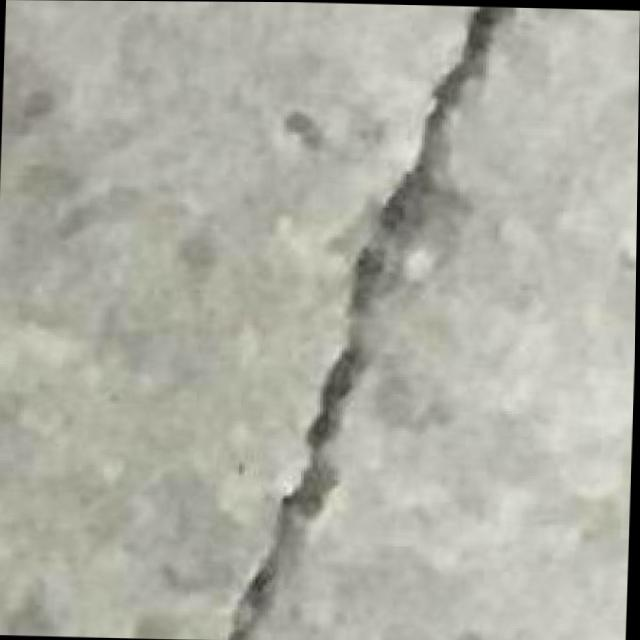Crack: (219, 1, 514, 640)
